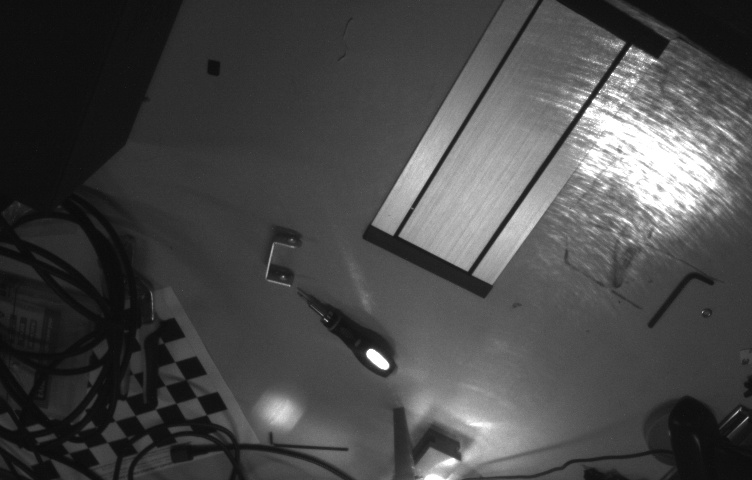Object precision screwdriver - Material Metal - Pdfname NoEr35VbQ7sR: (341, 325, 403, 382)
